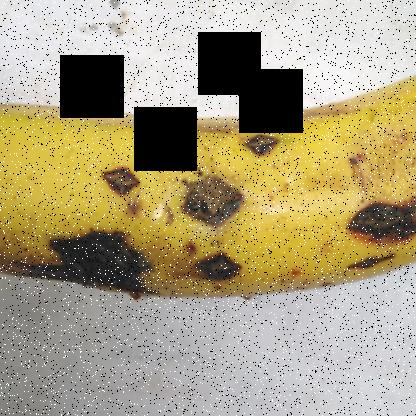rotten: (35, 218, 159, 310), (328, 187, 415, 281), (180, 168, 248, 230), (191, 240, 256, 292), (98, 148, 143, 199), (244, 110, 281, 161)
